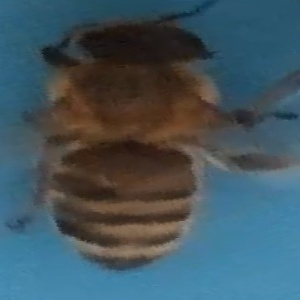bee: (18, 11, 295, 274)
